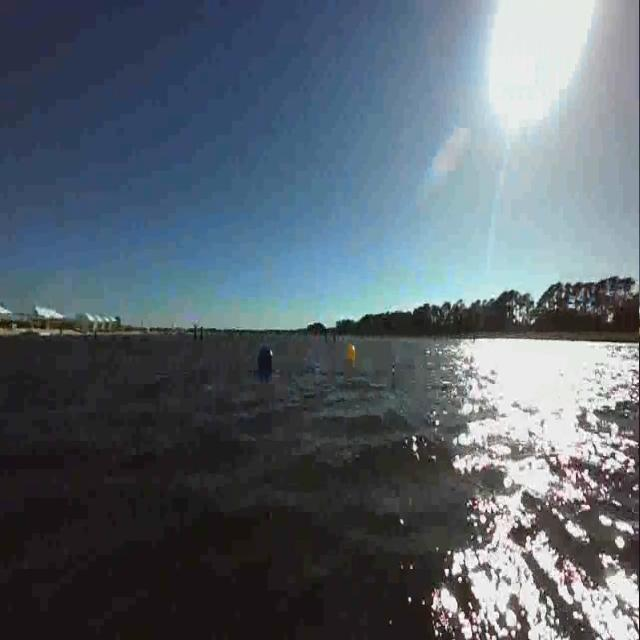blue-buoy: (260, 345, 275, 370)
yellow-buoy: (348, 344, 356, 361)
